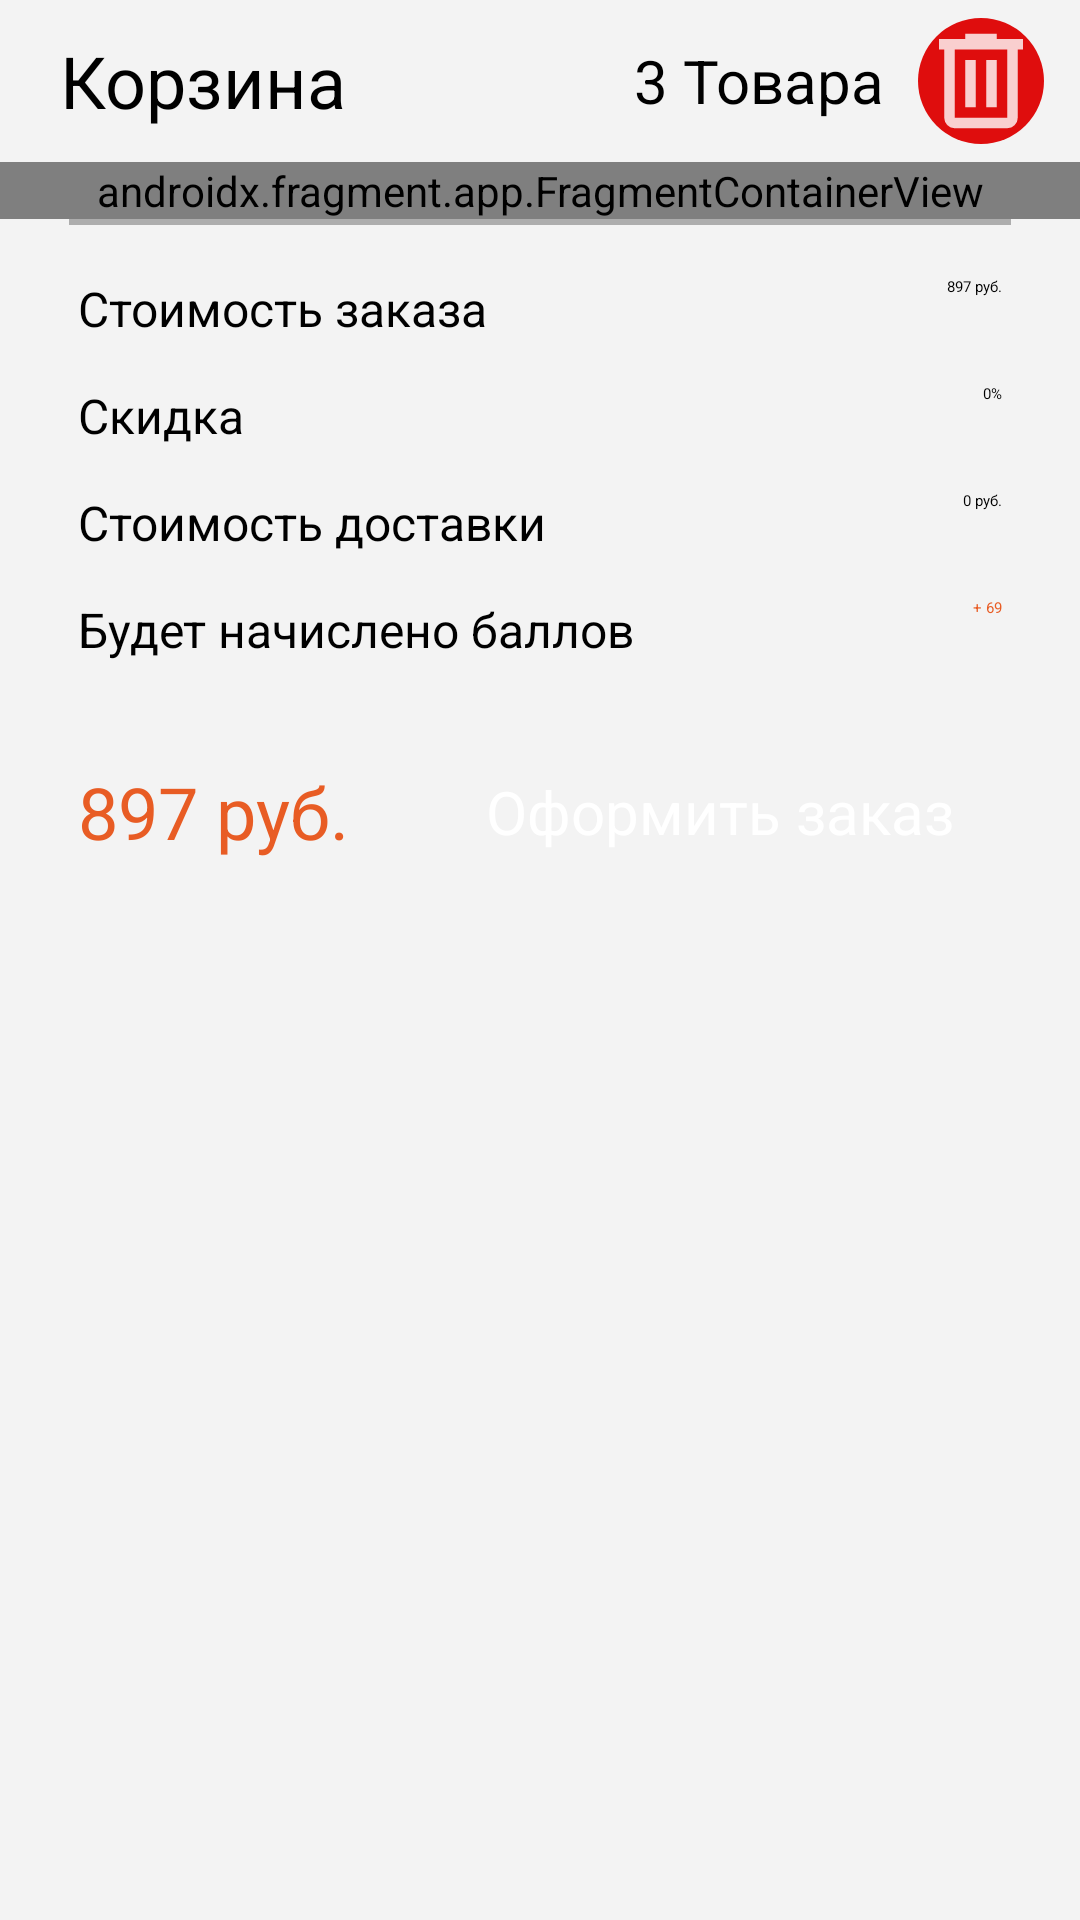

Icon click points for this 1080 x 1920 phone screenshot, format [x,y]:
delete: [981,81]
